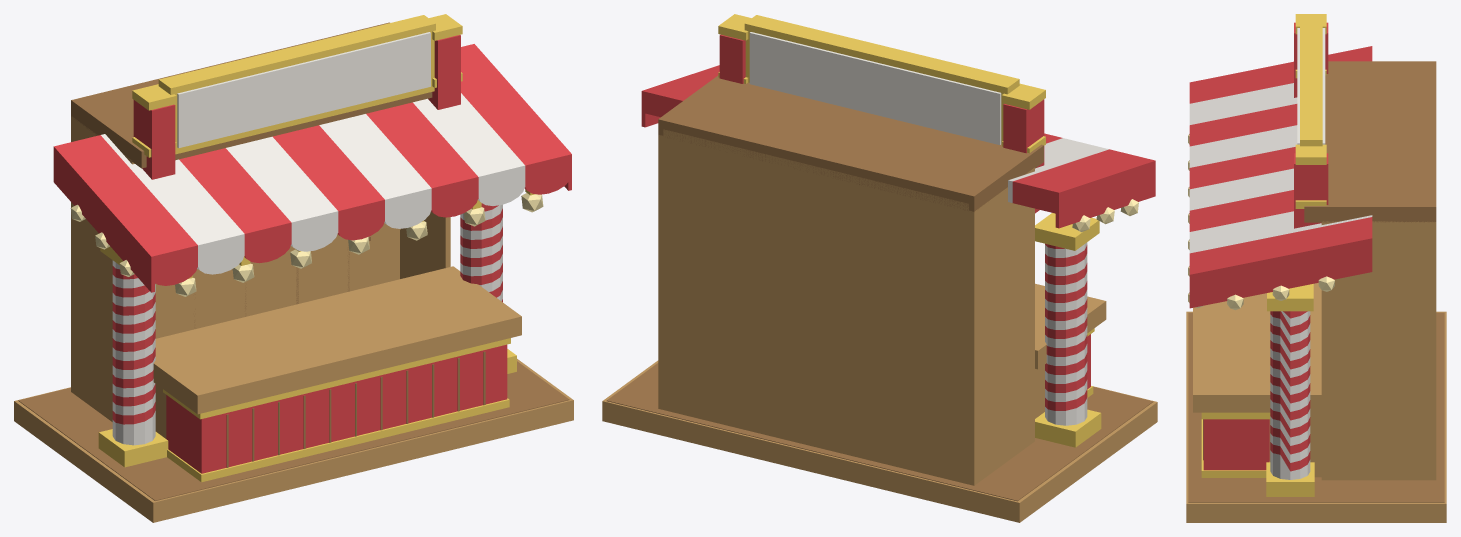
The model's file is CaneShop.glb.
3 views of the same model, side by side, from view 1: azimuth 30°, elevation 25°; view 2: azimuth 150°, elevation 25°; view 3: azimuth 270°, elevation 25° (orthographic). The views are drawn at different scales.
Visible parts, largest first — view 1: Wood, Red, White, WoodDark, Gold, Sign, Bulbs; view 2: Wood, WoodDark, Red, Sign, Gold, White; view 3: Wood, Red, WoodDark, White, Gold, Sign, Bulbs.
Part boxes in pixels (x1,y1,x2,y2): Wood: (14,116,573,522); Red: (53,35,571,473); White: (101,93,525,445); WoodDark: (18,22,569,500); Gold: (98,14,534,482); Sign: (177,32,430,148); Bulbs: (70,193,543,296); Wood: (602,129,1157,522); WoodDark: (606,75,1153,501); Red: (641,34,1155,410); Sign: (749,32,1001,144); Gold: (718,14,1101,447); White: (1008,138,1108,425); Wood: (1186,221,1446,522); Red: (1189,22,1372,471); WoodDark: (1188,61,1444,502); White: (1189,83,1372,479); Gold: (1201,14,1326,496); Sign: (1297,28,1325,144); Bulbs: (1188,134,1334,310).
Bounding box in the file's own units: 14.5 × 11.87 × 8.06.
